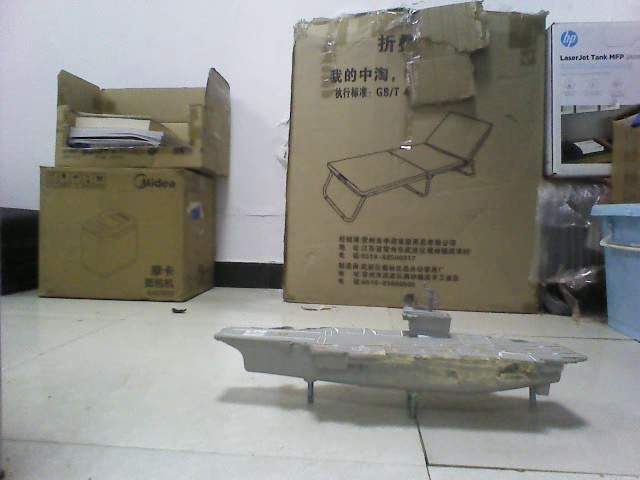aircraft_carrier: (210, 301, 592, 394)
